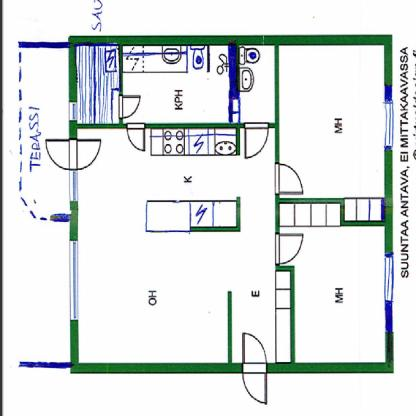door: (239, 328, 270, 408), (43, 136, 106, 174), (273, 160, 303, 196), (275, 233, 305, 267), (244, 120, 267, 162), (124, 121, 148, 154), (118, 95, 142, 119)
window: (384, 254, 395, 333), (382, 86, 394, 152), (70, 241, 80, 319), (70, 172, 80, 204), (68, 99, 76, 123)
zone: (80, 128, 276, 362), (279, 204, 384, 361), (279, 46, 383, 197), (122, 48, 275, 123), (18, 47, 71, 218), (76, 43, 120, 124)
